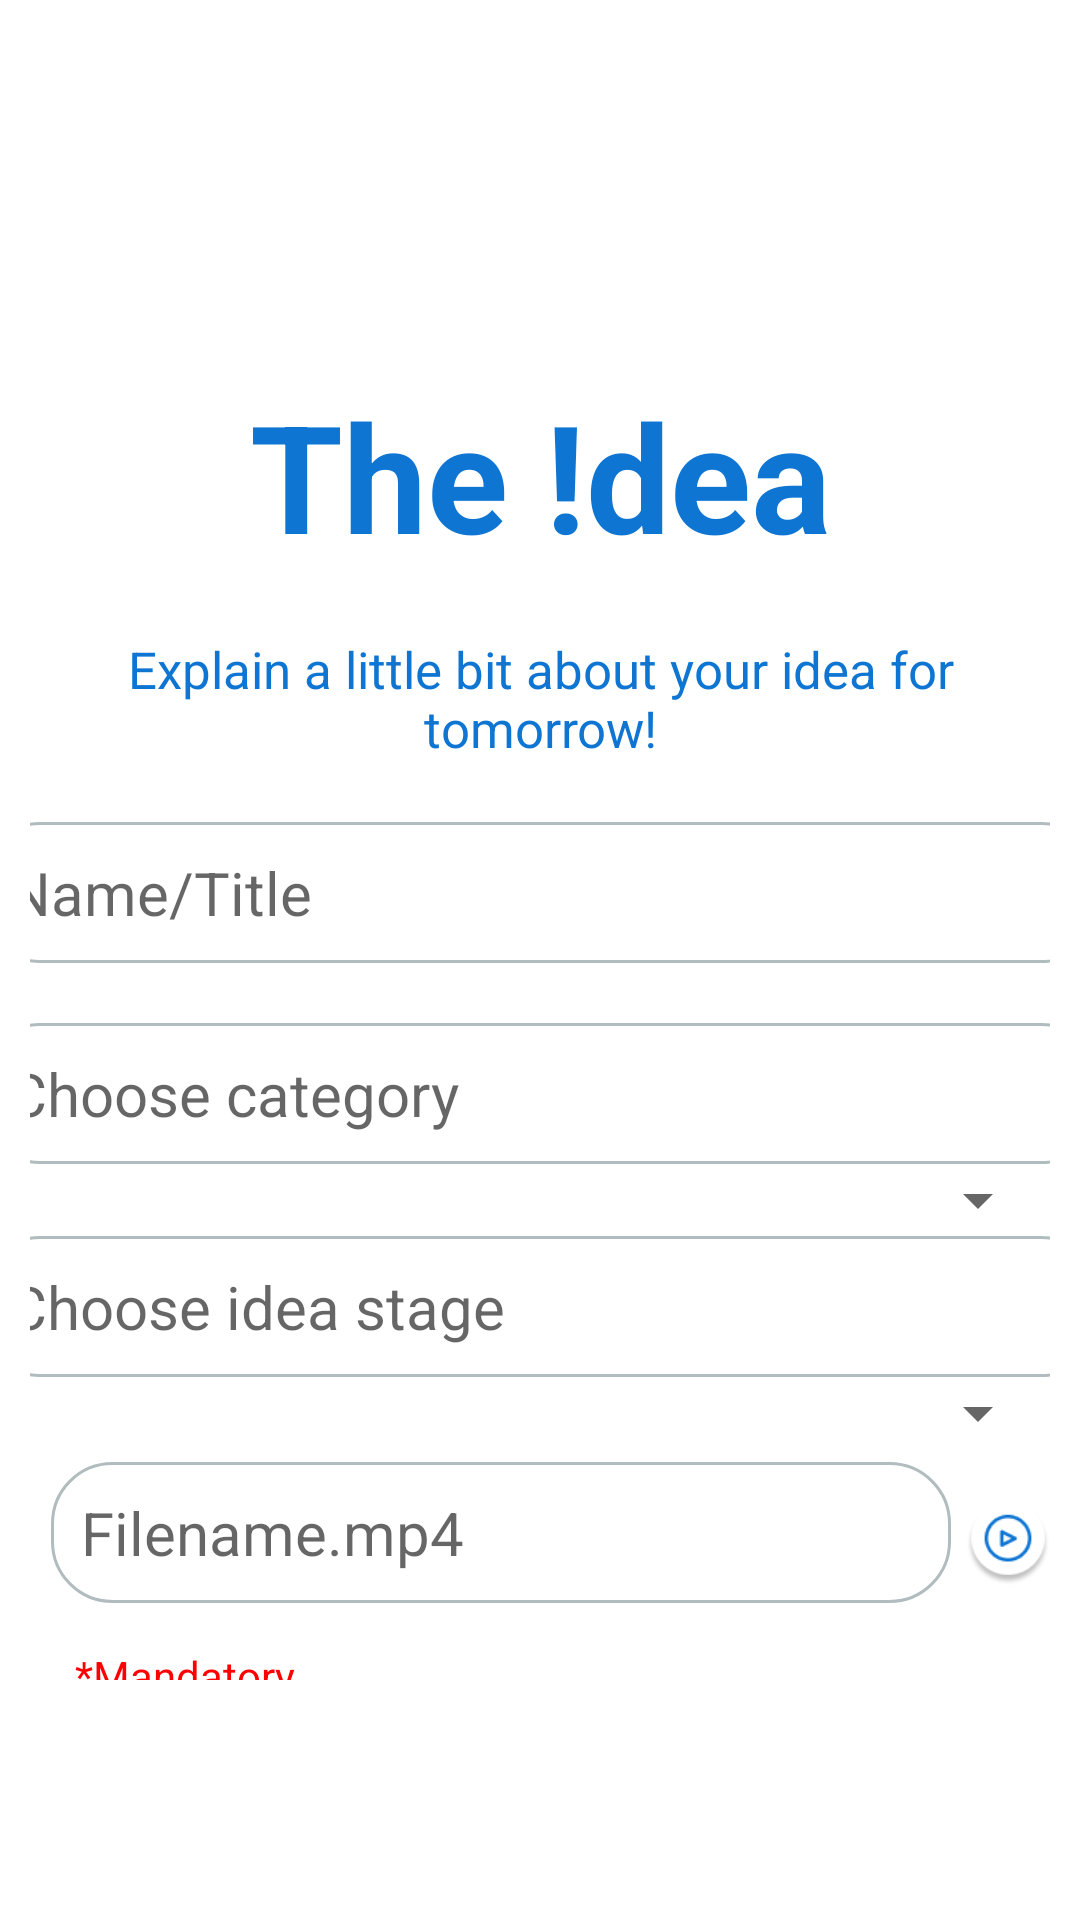

Locate icon controls on the screen. Image size 1080x1920, boxes as (x1, y1, x2, y2).
video: (971, 1514, 1045, 1581)
